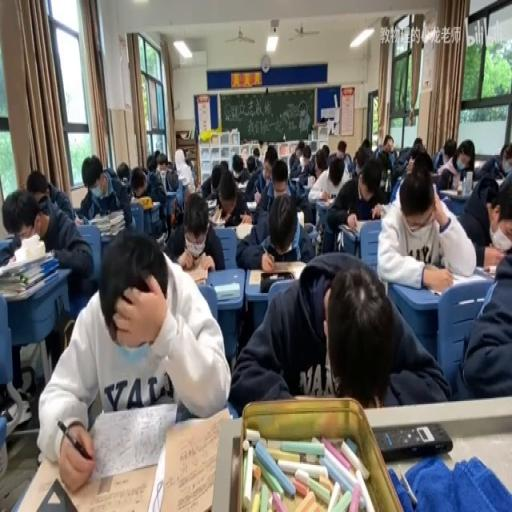calculator: (248, 263, 306, 286), (446, 266, 488, 286), (180, 263, 210, 285), (214, 282, 240, 300), (301, 194, 320, 218), (89, 208, 117, 224), (350, 218, 374, 234), (234, 222, 252, 240), (130, 194, 152, 208), (102, 220, 124, 234), (209, 205, 224, 223), (424, 284, 446, 296), (0, 236, 13, 256), (440, 188, 462, 199), (318, 194, 334, 208), (154, 232, 166, 246), (205, 196, 217, 208), (158, 168, 166, 186), (297, 209, 304, 228), (494, 176, 505, 186), (236, 181, 249, 189), (177, 174, 187, 184), (74, 214, 84, 224), (246, 201, 258, 209), (308, 175, 314, 188), (290, 174, 300, 180), (430, 172, 440, 178)
paper: (40, 230, 229, 490), (232, 248, 446, 410), (376, 165, 475, 289), (2, 184, 92, 290), (234, 183, 314, 269), (327, 155, 387, 253), (165, 191, 225, 270), (76, 155, 134, 232), (473, 171, 512, 273), (437, 138, 472, 192), (250, 142, 280, 202), (64, 266, 96, 320), (476, 142, 510, 182), (389, 138, 416, 186), (198, 161, 225, 199), (291, 144, 316, 182), (326, 140, 352, 174), (26, 171, 50, 202), (410, 149, 435, 175), (230, 154, 250, 184), (314, 146, 329, 176), (130, 168, 146, 196), (165, 165, 178, 192), (116, 160, 130, 184), (382, 134, 394, 152), (434, 148, 443, 171), (157, 154, 168, 172), (145, 154, 157, 170), (360, 139, 370, 158), (245, 154, 255, 172), (412, 135, 423, 151), (382, 151, 392, 166), (219, 158, 229, 171), (252, 145, 259, 158), (189, 158, 195, 168), (154, 149, 160, 158)
person: (374, 422, 451, 461)
